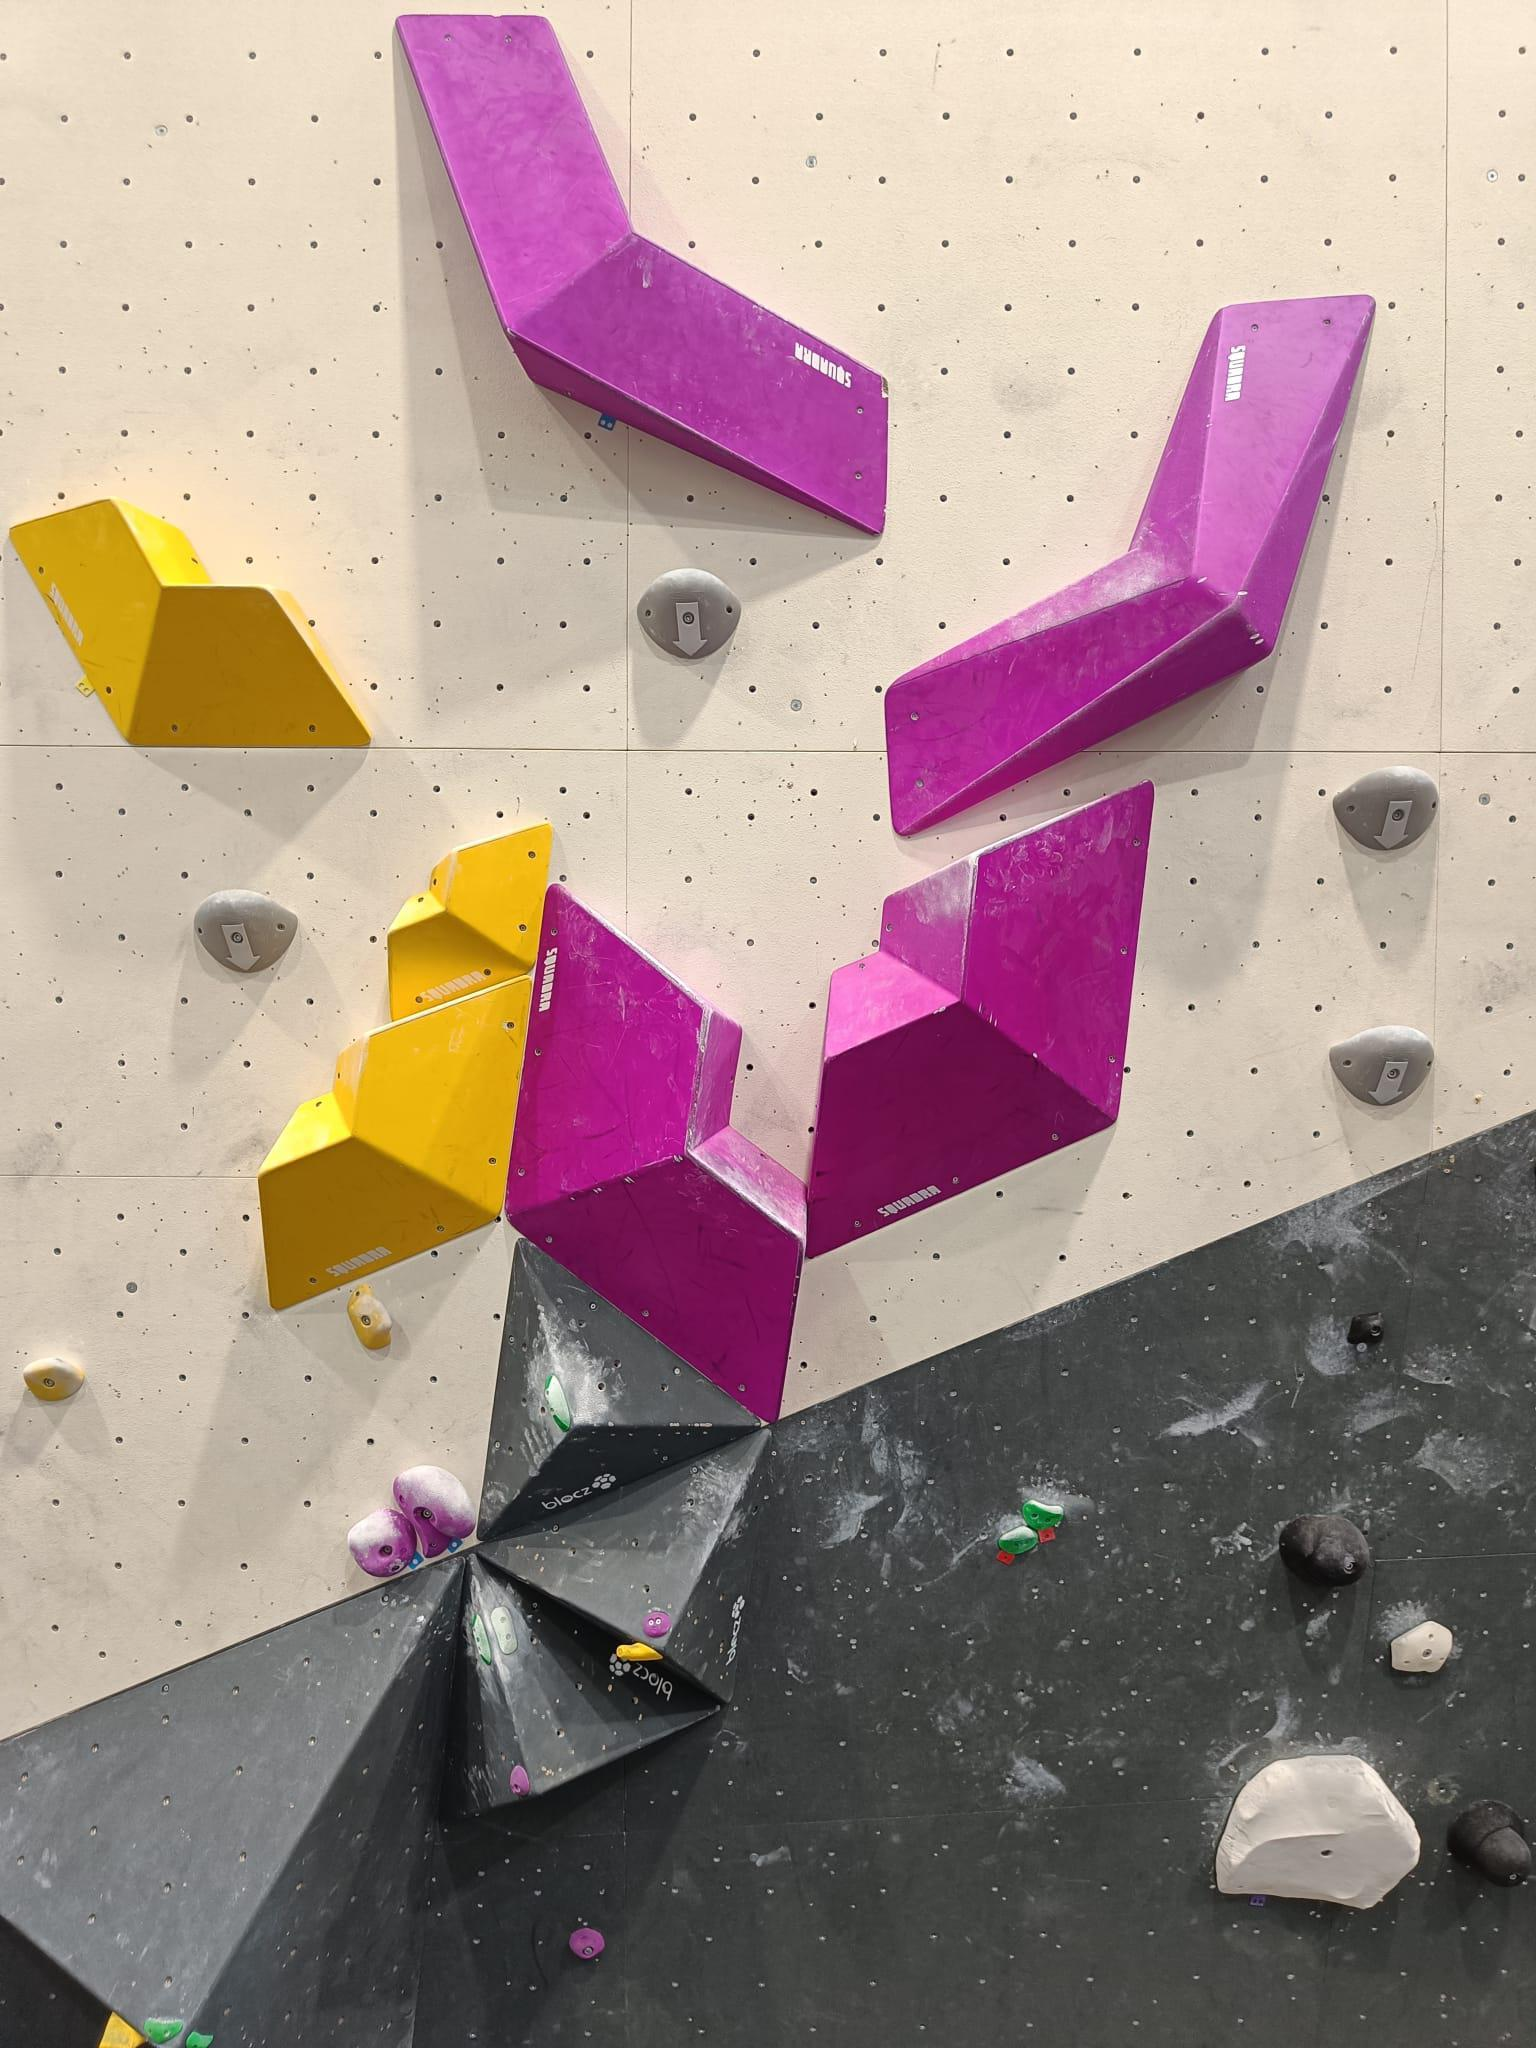hold: (884, 293, 1376, 834), (395, 15, 887, 537), (805, 779, 1154, 1258), (505, 884, 807, 1424), (258, 974, 534, 1309), (10, 497, 374, 747), (387, 824, 553, 1021), (1217, 1755, 1421, 1908), (637, 568, 741, 660), (194, 889, 298, 972), (1333, 766, 1438, 850), (1329, 1024, 1434, 1106), (394, 1464, 474, 1558), (1447, 1800, 1533, 1887), (1279, 1514, 1371, 1587), (347, 1506, 418, 1577), (1391, 1621, 1454, 1672), (347, 1284, 392, 1350), (23, 1356, 86, 1401), (98, 2011, 147, 2048), (544, 1376, 570, 1432), (1021, 1500, 1065, 1530), (1347, 1313, 1386, 1345), (997, 1526, 1039, 1555), (570, 1927, 607, 1959), (144, 2019, 184, 2045), (615, 1642, 665, 1661), (642, 1611, 671, 1637), (508, 1764, 529, 1796), (186, 2032, 215, 2048)
volume: (0, 1556, 466, 2048), (478, 1238, 762, 1543), (476, 1429, 773, 1703), (437, 1553, 721, 1821)
